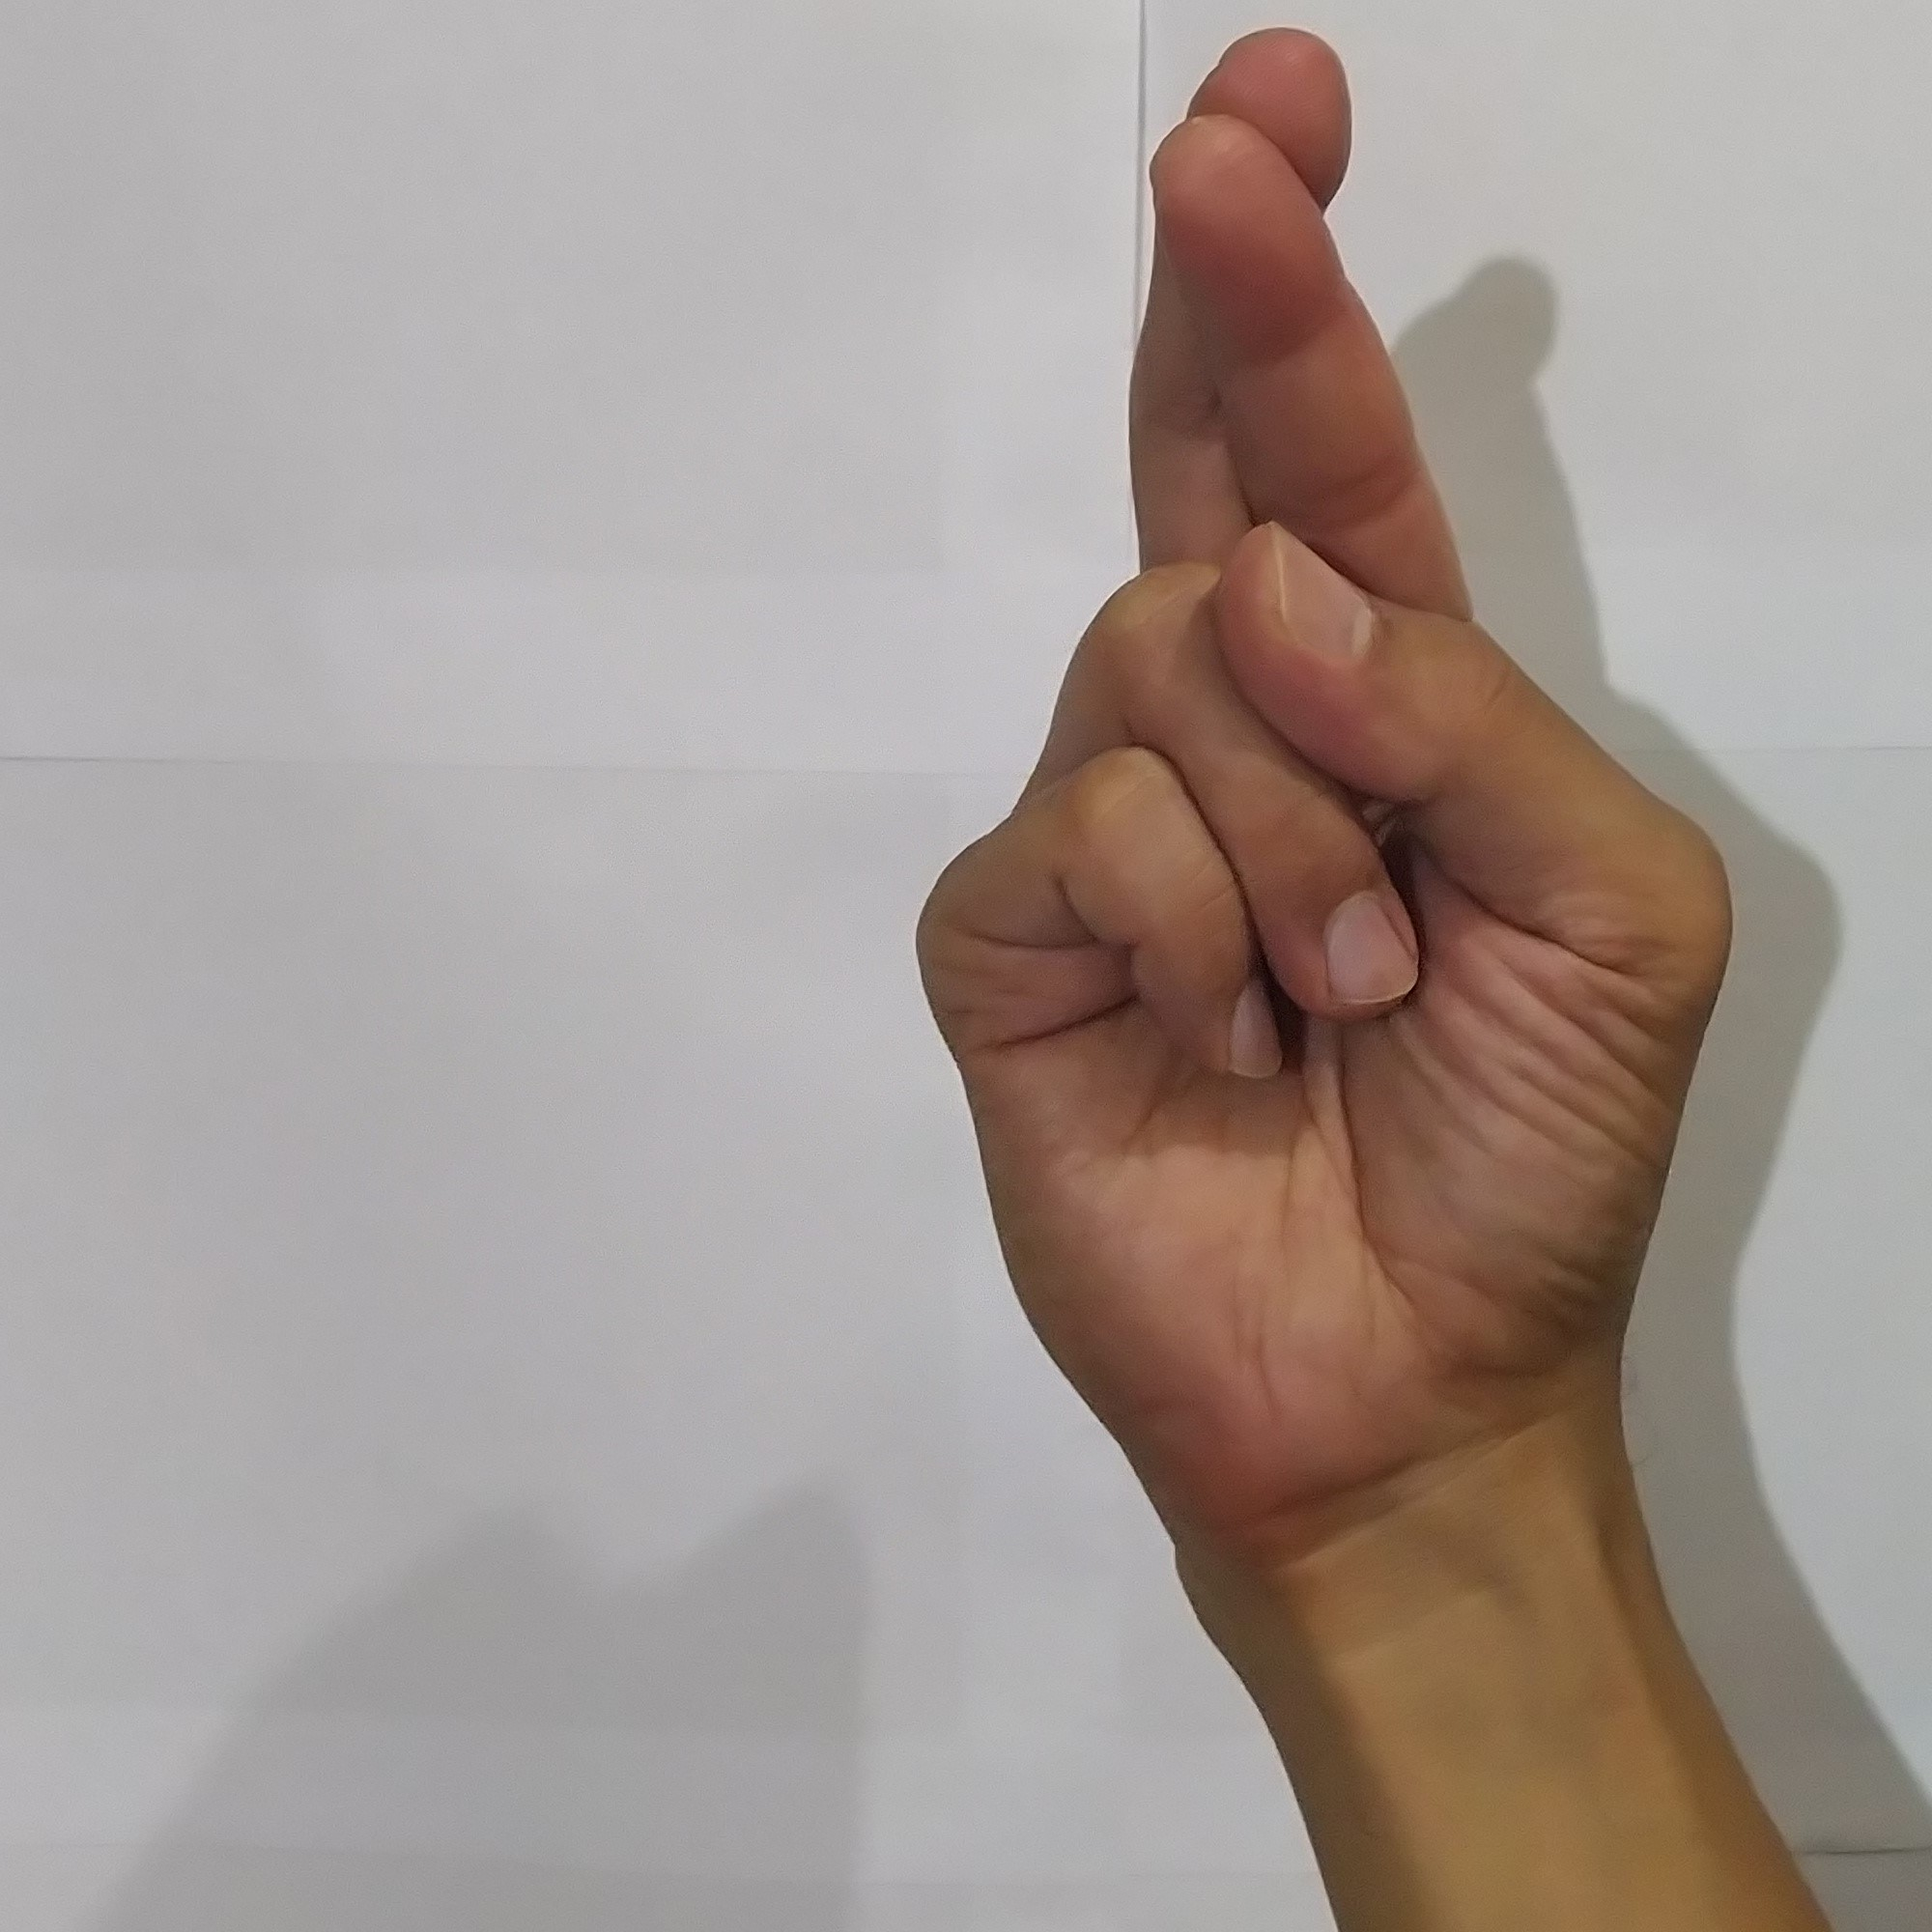R: (876, 9, 1757, 1465)
